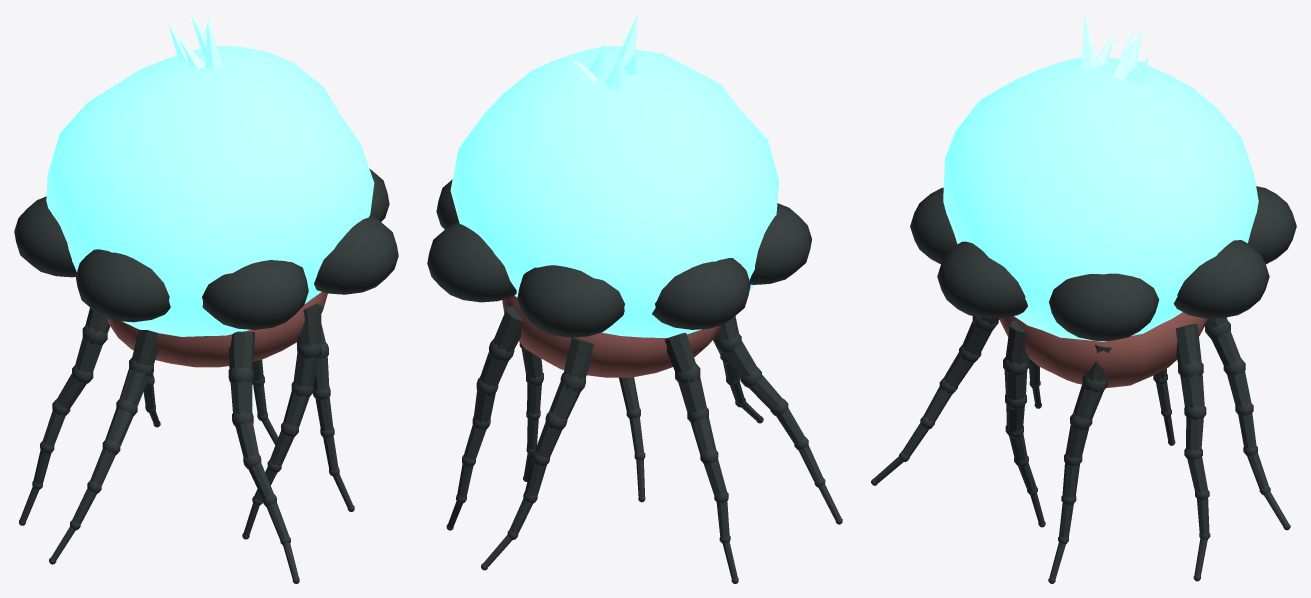
File: drifter.glb
3 views of the same model, side by side, from view 1: azimuth 30°, elevation 25°; view 2: azimuth 150°, elevation 25°; view 3: azimuth 270°, elevation 25° (orthographic).
Parts seen in each view (by area): view 1: body_mesh; view 2: body_mesh; view 3: body_mesh.
Part boxes in pixels (bbox=[...]): body_mesh: bbox=[14, 14, 398, 583]; body_mesh: bbox=[427, 15, 842, 583]; body_mesh: bbox=[871, 14, 1296, 583].
Bounding box in the file's own units: 0.8932 × 1.19 × 0.908.
